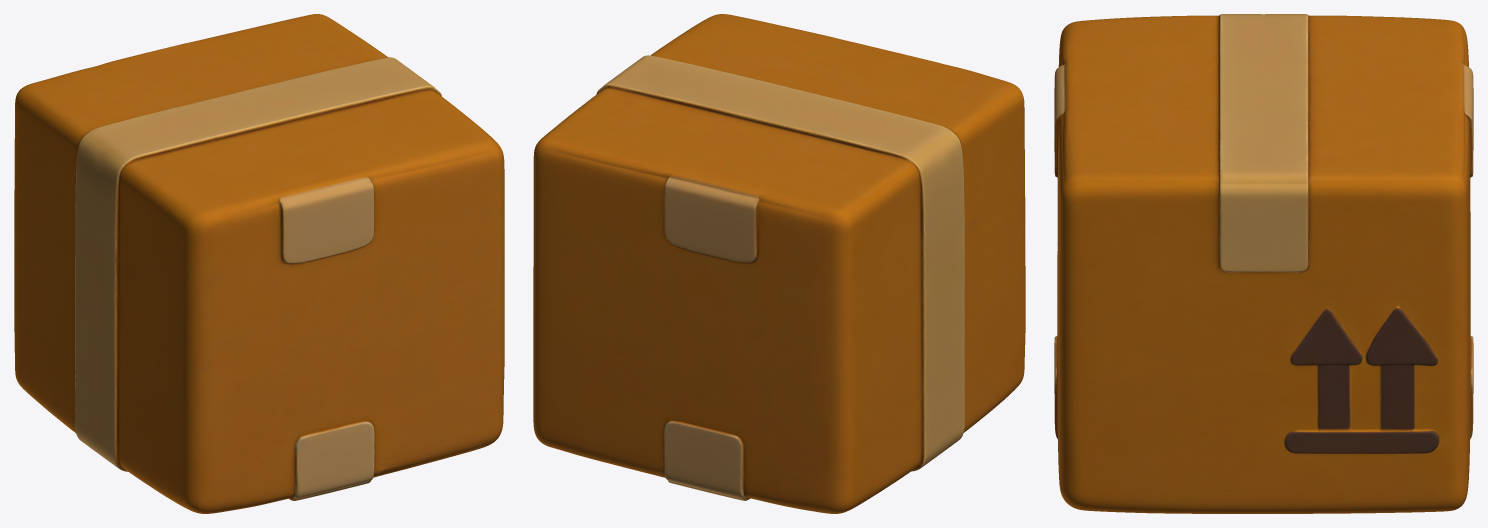
File: box_large.glb
The picture shows the model from 3 angles, left to right: view 1: azimuth 30°, elevation 25°; view 2: azimuth 150°, elevation 25°; view 3: azimuth 270°, elevation 25°; orthographic projection. The views are drawn at different scales.
Visible parts, largest first — view 1: tripo_node_95c4ee82-a048-4020-9b0e-ec55e89fd10c; view 2: tripo_node_95c4ee82-a048-4020-9b0e-ec55e89fd10c; view 3: tripo_node_95c4ee82-a048-4020-9b0e-ec55e89fd10c.
Boxes of the visible parts, box(x1,y1,x2,y2) form: tripo_node_95c4ee82-a048-4020-9b0e-ec55e89fd10c: box(14, 14, 504, 513); tripo_node_95c4ee82-a048-4020-9b0e-ec55e89fd10c: box(533, 14, 1025, 513); tripo_node_95c4ee82-a048-4020-9b0e-ec55e89fd10c: box(1054, 14, 1473, 513).
Bounding box in the file's own units: 0.9948 × 0.9182 × 1.
Materials: 1 (1 with a texture image).
